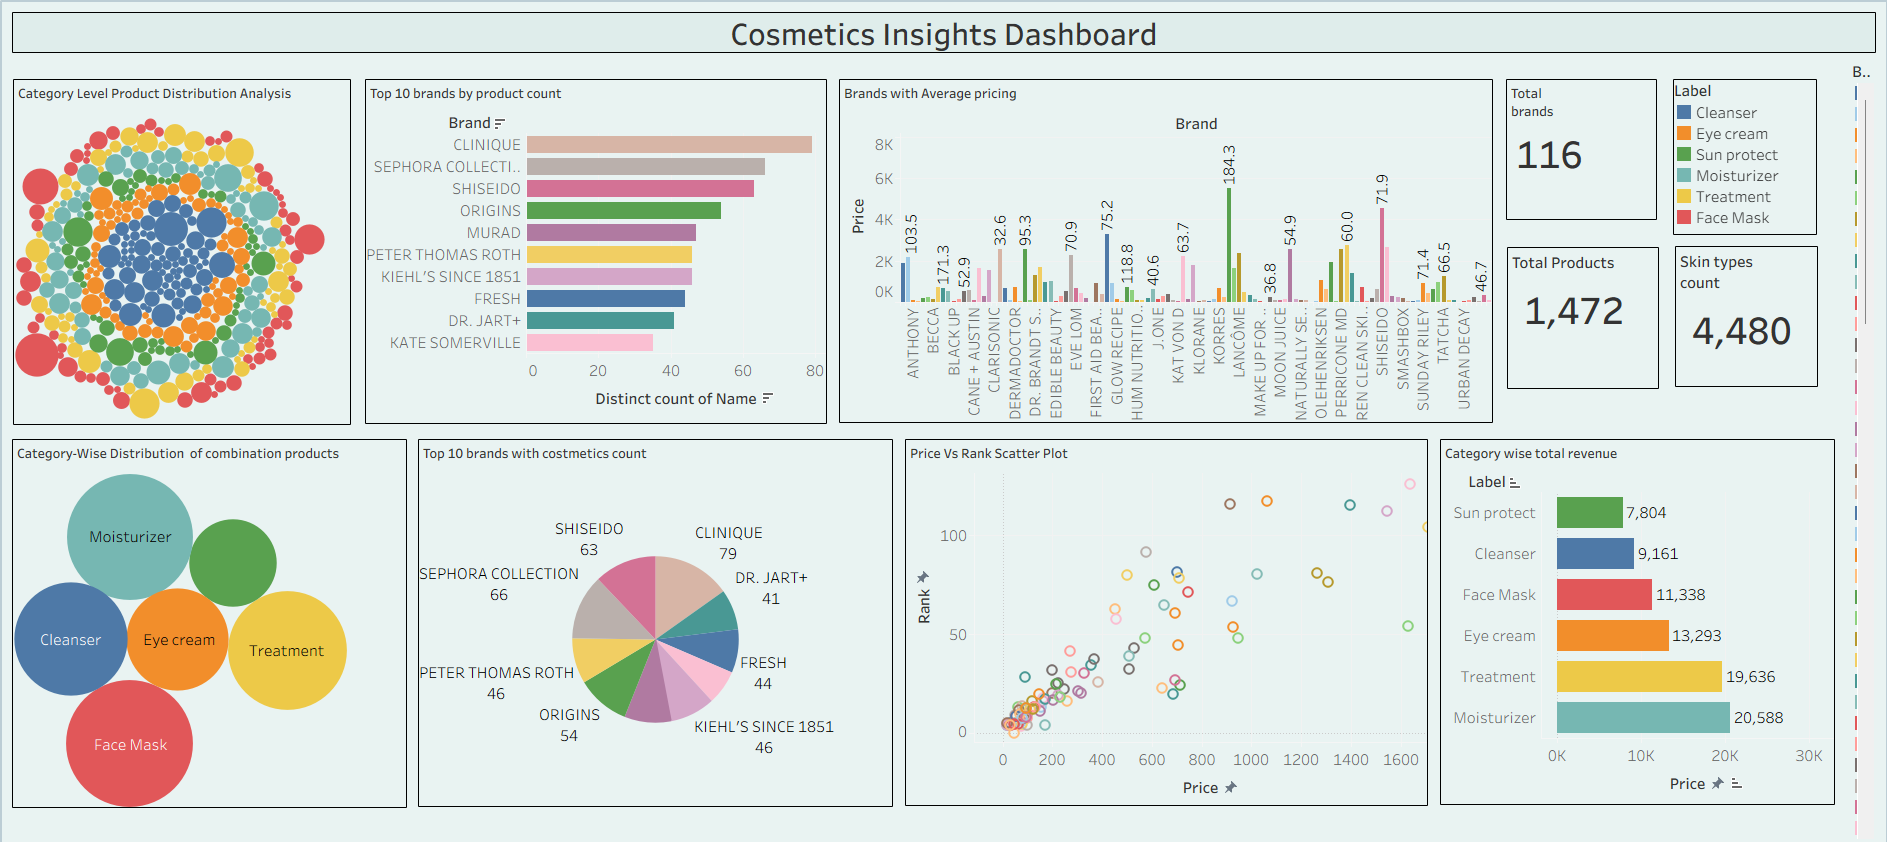

What the dashboard file says about the page in this screenshot:
{"tool":"tableau","page":{"name":"Dashboard - Cosmetics Insights","canvas":[1000,1000],"units":"permille","ordinal":0},"visuals":[{"type":"title","box":[4.9,9.4,990.2,57.6]},{"type":"legend","title":"Price Vs Rank","param":"[federated.0s6yh5g1x9rawc159jepz01hfpyh].[none:Brand:nk]","box":[975.4,67,19.7,923.6]},{"type":"worksheet","title":"Category Level Product Distribution Analysis","mark":"Circle","box":[6.8,92.8,179.1,406.6]},{"type":"worksheet","title":"Top 10 brands by product count","mark":"Automatic","rows":["Brand"],"cols":["Name"],"box":[193.2,92.8,244.9,405.4]},{"type":"worksheet","title":"Brands with Average pricing","mark":"Automatic","rows":["Price"],"cols":["Brand"],"box":[444.3,92.8,346.5,404.2]},{"type":"worksheet","title":"Total brands","mark":"Automatic","box":[797.5,92.8,80,165.7]},{"type":"legend","title":"Category Level Product Distribution Analysis","param":"[federated.0s6yh5g1x9rawc159jepz01hfpyh].[none:Label:nk]","box":[886.1,92.8,76.3,183.3]},{"type":"worksheet","title":"All Skin types count","mark":"Automatic","box":[887.4,289.1,75.7,165.7]},{"type":"worksheet","title":"Total Products","mark":"Automatic","box":[798.1,290.2,80.6,166.9]},{"type":"worksheet","title":"Category-Wise Distribution  of combination products","mark":"Circle","box":[6.2,515.9,209.2,433.6]},{"type":"worksheet","title":"Top 10 brands with costmetics count","mark":"Pie","box":[221.5,515.9,251.7,432.4]},{"type":"worksheet","title":"Price Vs Rank","mark":"Automatic","rows":["Rank"],"cols":["Price"],"box":[479.4,515.9,276.9,431.3]},{"type":"worksheet","title":"Category wise total revenue","mark":"Automatic","rows":["Label"],"cols":["Price"],"box":[762.5,515.9,209.2,430.1]}]}

Visuals, with their boxes on the dashboard's canvas, which has no fixed pixel size, in thousandths of its width and height (x1, y1, x2, y2). These are canvas units, not pixel positions in the 1887x842 screenshot, which may show the page scaled, cropped or inside an application window:
title: [x1=5, y1=9, x2=995, y2=67]
"Price Vs Rank" legend: [x1=975, y1=67, x2=995, y2=991]
"Category Level Product Distribution Analysis" worksheet (Circle marks): [x1=7, y1=93, x2=186, y2=499]
"Top 10 brands by product count" worksheet: [x1=193, y1=93, x2=438, y2=498]
"Brands with Average pricing" worksheet: [x1=444, y1=93, x2=791, y2=497]
"Total brands" worksheet: [x1=798, y1=93, x2=878, y2=258]
"Category Level Product Distribution Analysis" legend: [x1=886, y1=93, x2=962, y2=276]
"All Skin types count" worksheet: [x1=887, y1=289, x2=963, y2=455]
"Total Products" worksheet: [x1=798, y1=290, x2=879, y2=457]
"Category-Wise Distribution  of combination products" worksheet (Circle marks): [x1=6, y1=516, x2=215, y2=950]
"Top 10 brands with costmetics count" worksheet (Pie marks): [x1=222, y1=516, x2=473, y2=948]
"Price Vs Rank" worksheet: [x1=479, y1=516, x2=756, y2=947]
"Category wise total revenue" worksheet: [x1=762, y1=516, x2=972, y2=946]
